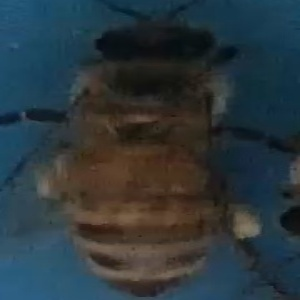bee: (3, 9, 278, 300)
